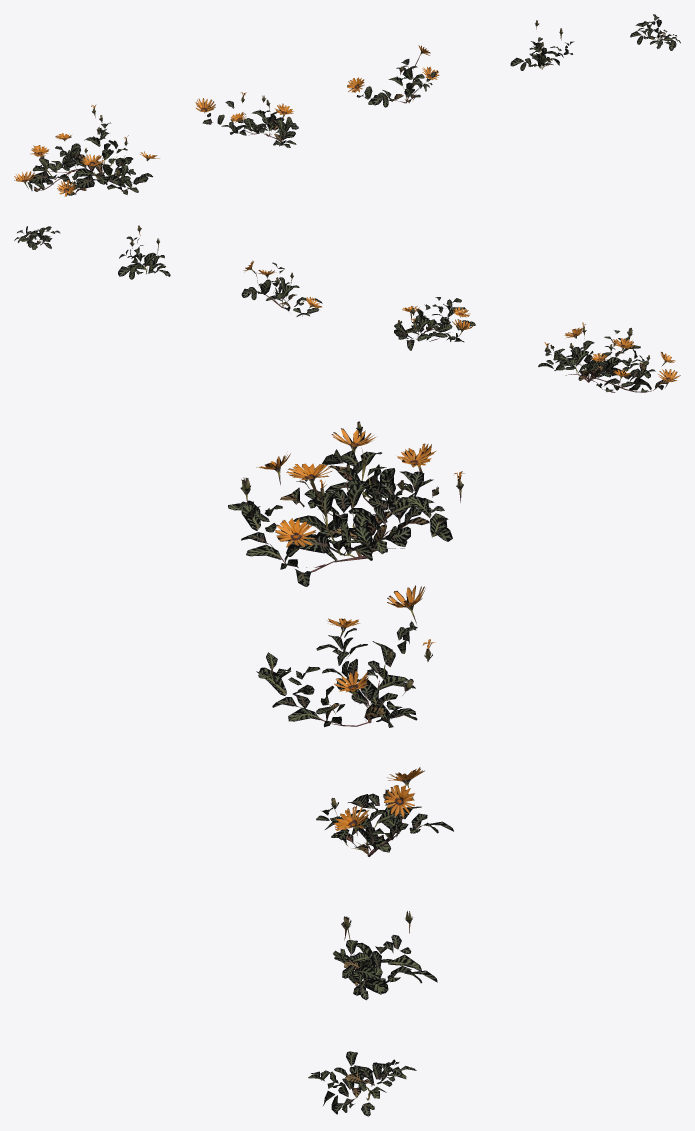
The model's file is flower_ursinia.glb.
3 renders of one model, top to bottom at view 1: azimuth 30°, elevation 25°; view 2: azimuth 150°, elevation 25°; view 3: azimuth 270°, elevation 25°, orthographic. The views are drawn at different scales.
Visible parts, largest first — view 1: flower_ursinia_a_LOD0, flower_ursinia_b_LOD0, flower_ursinia_c_LOD0, flower_ursinia_d_LOD0, flower_ursinia_e_LOD0; view 2: flower_ursinia_a_LOD0, flower_ursinia_b_LOD0, flower_ursinia_c_LOD0, flower_ursinia_d_LOD0, flower_ursinia_e_LOD0; view 3: flower_ursinia_a_LOD0, flower_ursinia_b_LOD0, flower_ursinia_c_LOD0, flower_ursinia_d_LOD0, flower_ursinia_e_LOD0.
Part boxes in pixels (x1,y1,x2,y2): flower_ursinia_a_LOD0: [14, 104, 159, 196]; flower_ursinia_b_LOD0: [195, 92, 298, 147]; flower_ursinia_c_LOD0: [347, 45, 439, 107]; flower_ursinia_d_LOD0: [510, 20, 574, 70]; flower_ursinia_e_LOD0: [630, 14, 680, 50]; flower_ursinia_a_LOD0: [538, 322, 680, 392]; flower_ursinia_b_LOD0: [394, 297, 475, 350]; flower_ursinia_c_LOD0: [241, 260, 322, 316]; flower_ursinia_d_LOD0: [118, 225, 170, 279]; flower_ursinia_e_LOD0: [14, 226, 60, 249]; flower_ursinia_a_LOD0: [228, 421, 464, 586]; flower_ursinia_b_LOD0: [256, 585, 435, 727]; flower_ursinia_c_LOD0: [316, 767, 453, 856]; flower_ursinia_d_LOD0: [333, 911, 437, 1000]; flower_ursinia_e_LOD0: [308, 1051, 416, 1116].
Bounding box in the file's own units: 2.19 × 0.1717 × 0.3433.
Materials: 1 (1 with a texture image).
